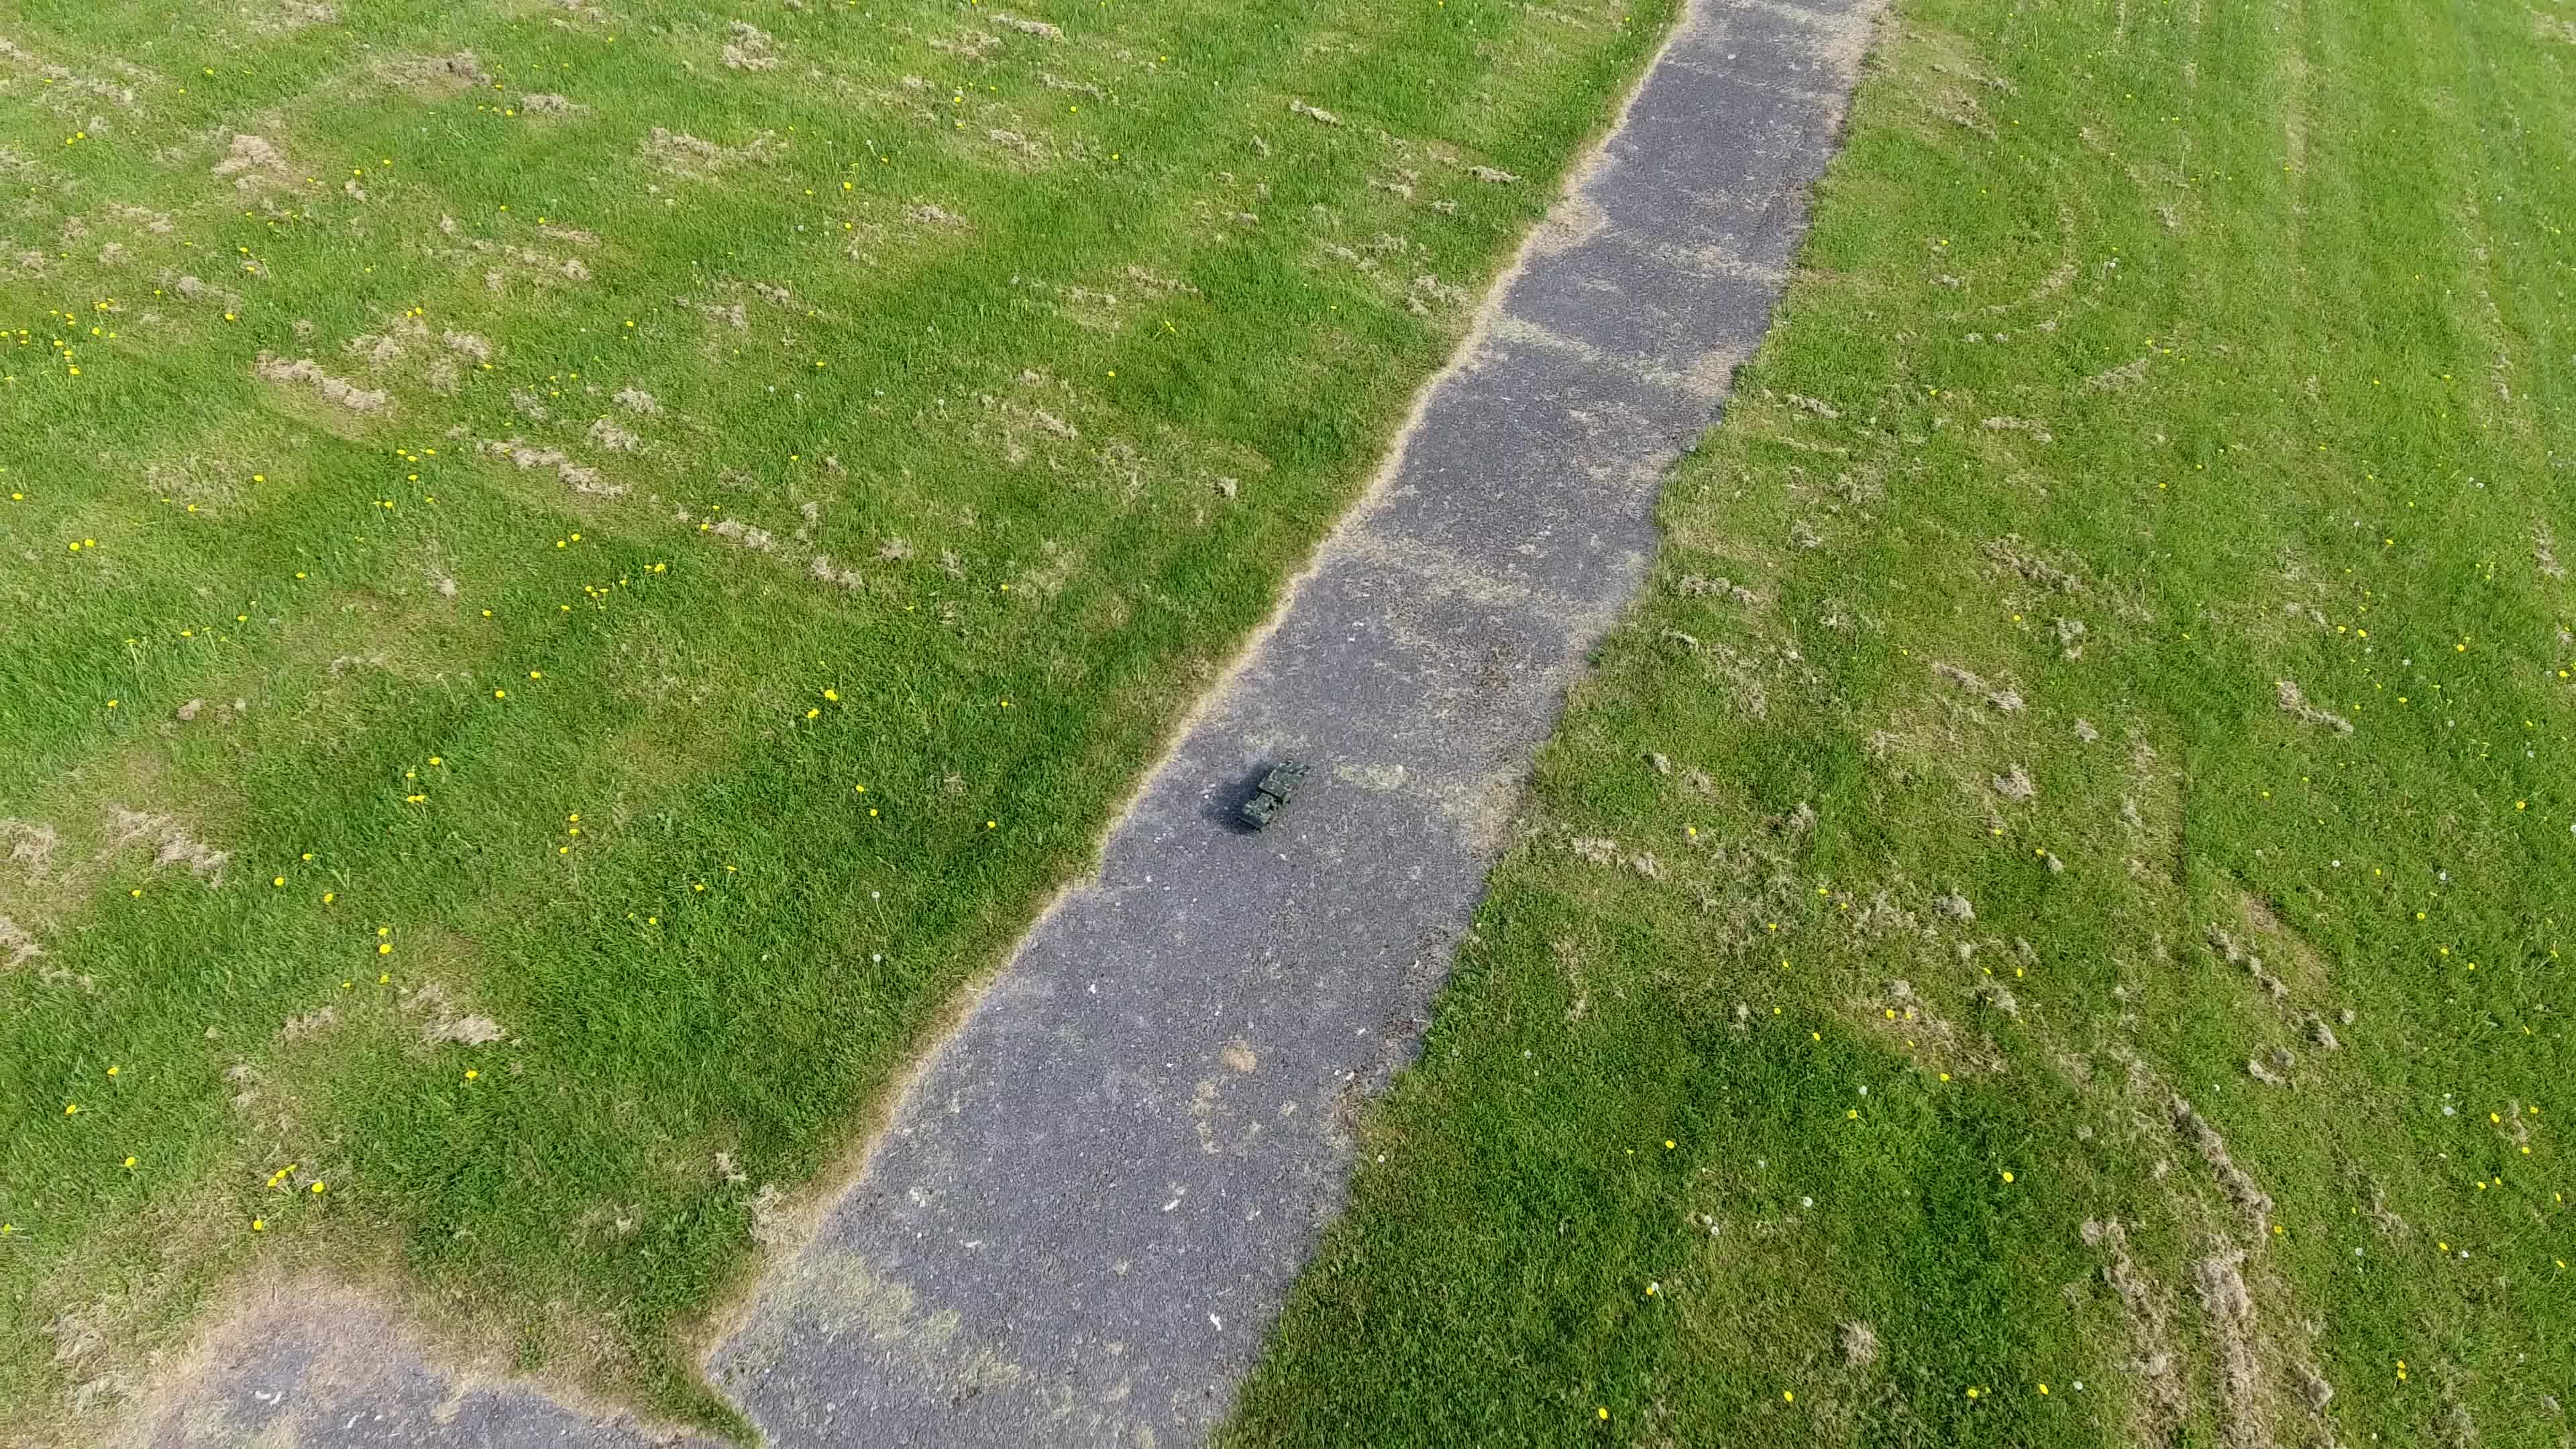transporter9: (1230, 755, 1311, 837)
